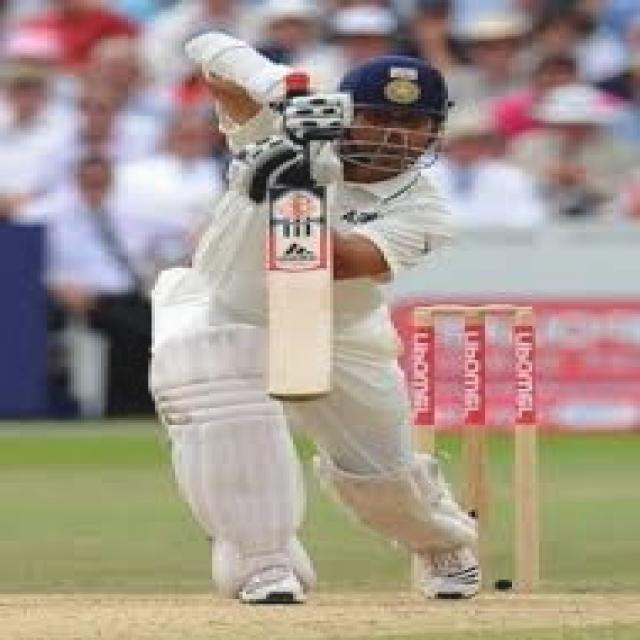bat: (264, 183, 337, 408)
toe: (269, 390, 331, 404)
